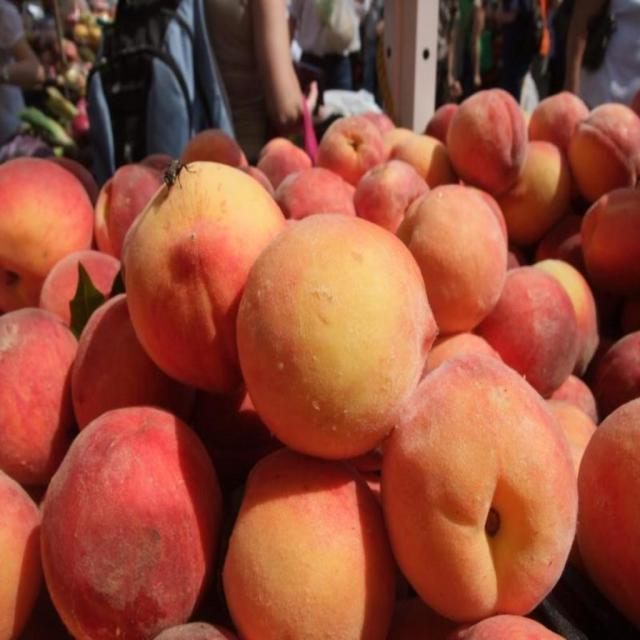Peach: (0, 87, 639, 639)
